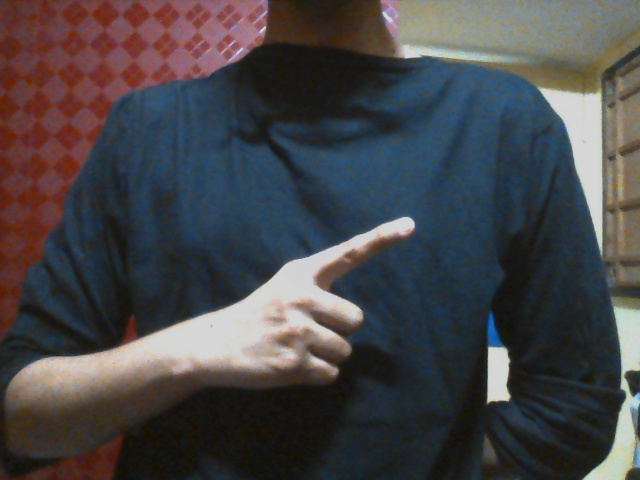I: (227, 214, 416, 390)
